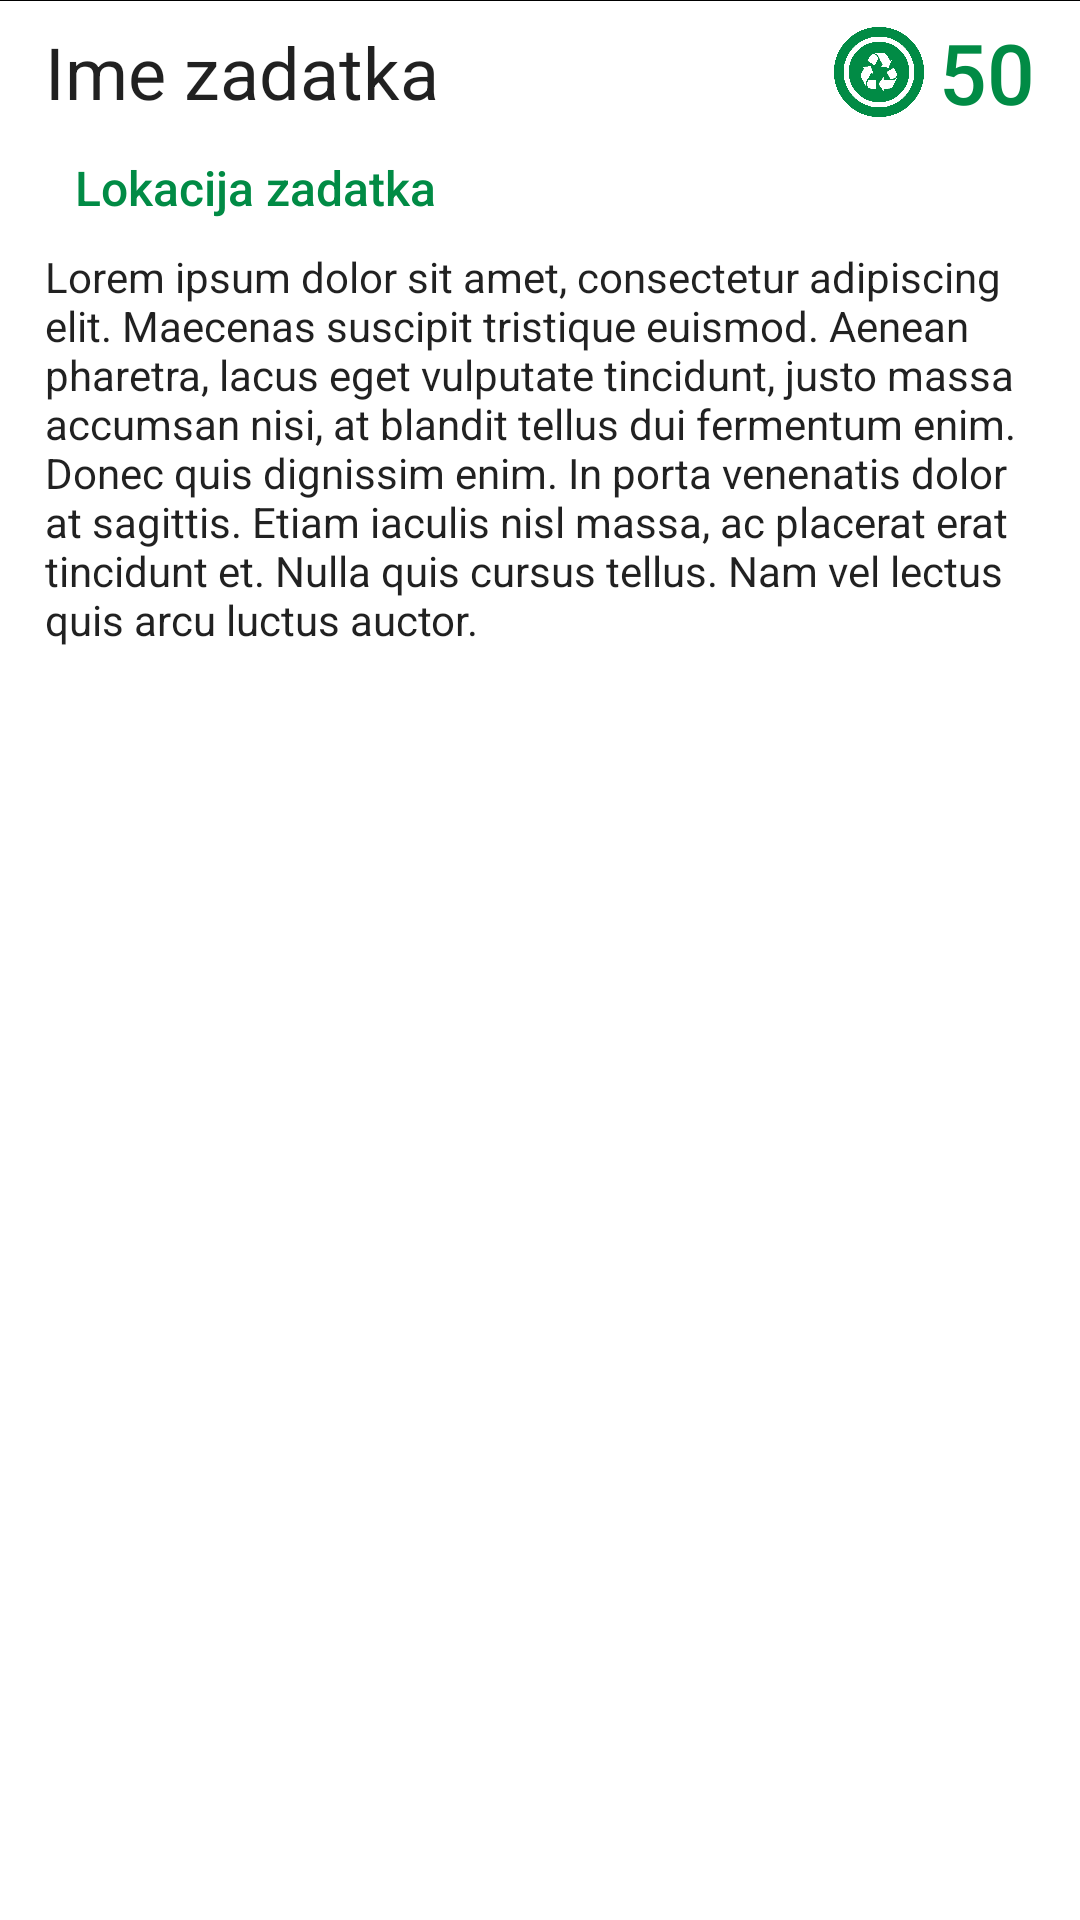

Icons on this 1080*1920 Android screen, each with its box as box=[x1, y1, x2, y2]:
coin: box=[834, 27, 924, 117]
